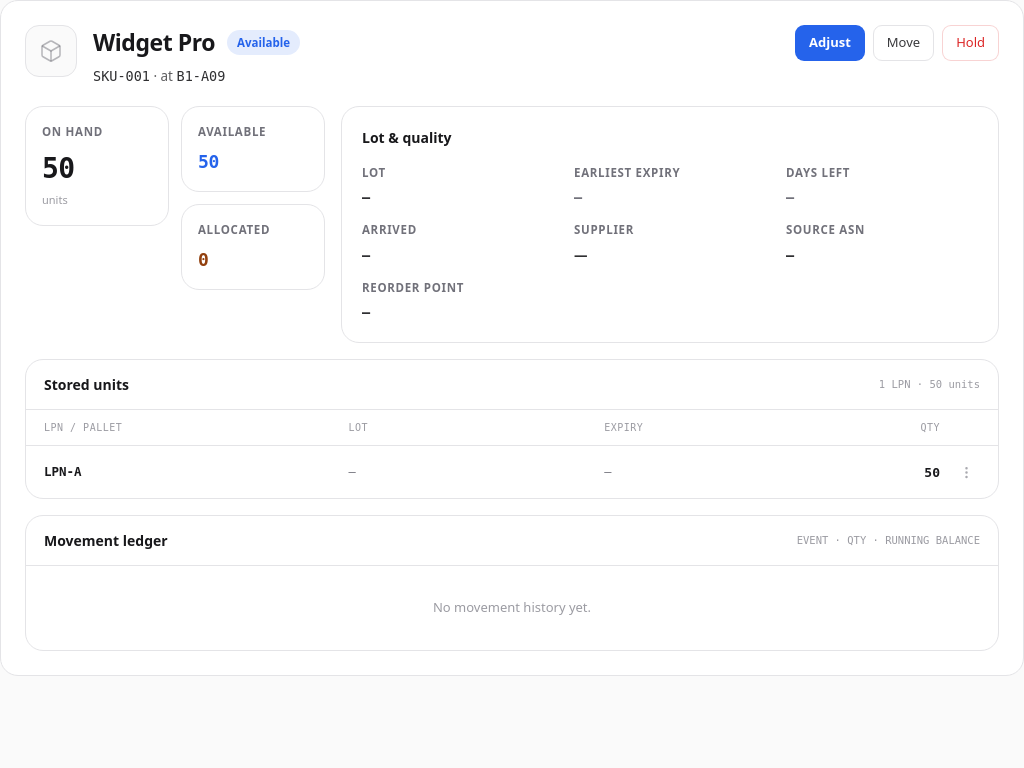
Test: InventoryDetail — unit-load actions (change owner / carrier) › offers only Unmark carrier when the unit load is already a carrier
This screenshot has width=1024, height=768.
Click the button named "unit load actions" at (966, 472), box left=952, top=458, right=980, bottom=486
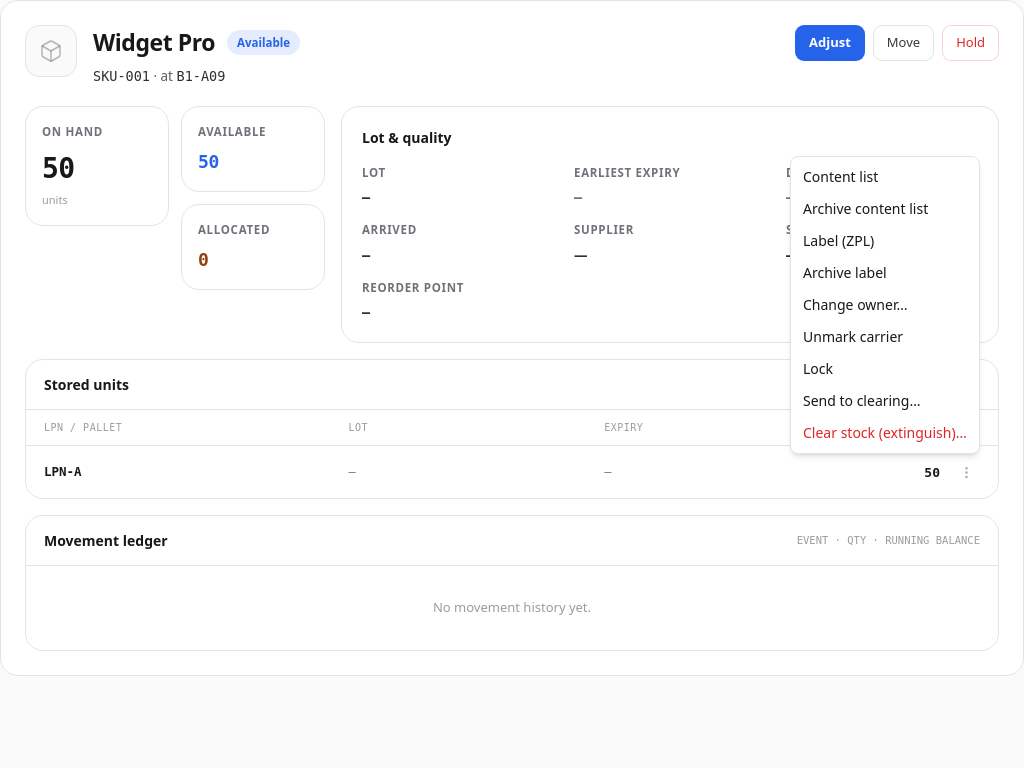
Check: the menu item "Unmark carrier" is shown, box left=803, top=327, right=903, bottom=346
